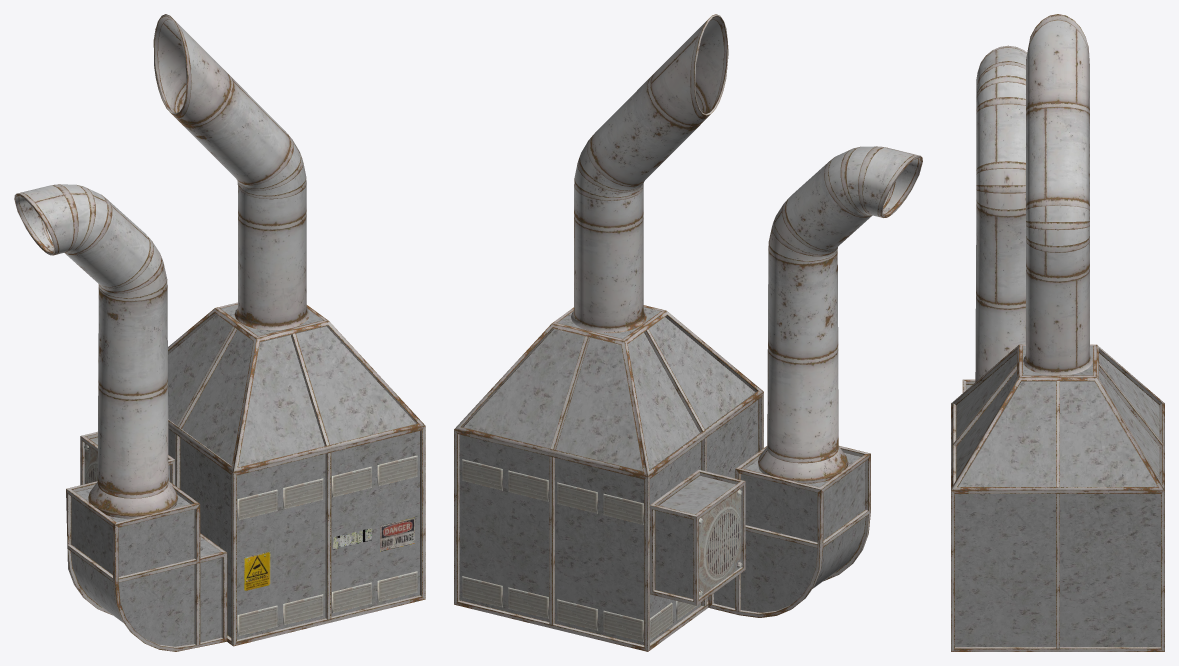
Rendered from hvac_exhausts.glb.
3 views of the same model, side by side, from view 1: azimuth 30°, elevation 25°; view 2: azimuth 150°, elevation 25°; view 3: azimuth 270°, elevation 25° (orthographic). The views are drawn at different scales.
Visible parts, largest first — view 1: hvac_exhausts_LOD0; view 2: hvac_exhausts_LOD0; view 3: hvac_exhausts_LOD0.
Part boxes in pixels (x1,y1,x2,y2): hvac_exhausts_LOD0: [14, 14, 425, 651]; hvac_exhausts_LOD0: [454, 14, 922, 651]; hvac_exhausts_LOD0: [951, 14, 1164, 651].
Size of the model in its own units: 10.9 by 16.56 by 5.85.
Materials: 4 (4 with a texture image).
